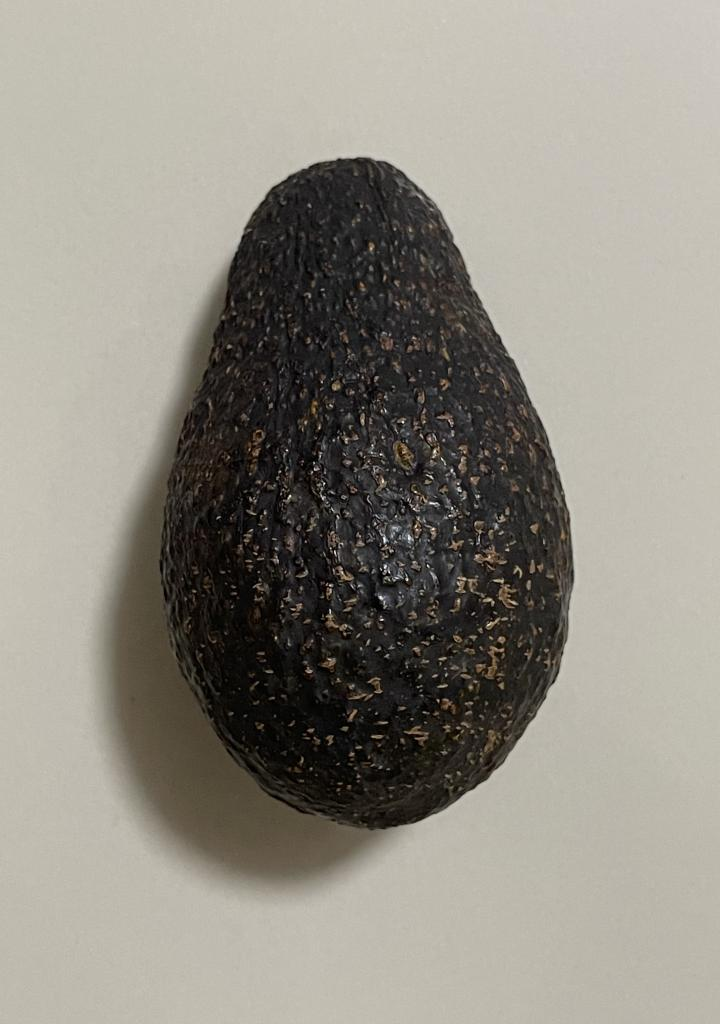Level2: (151, 145, 581, 839)
